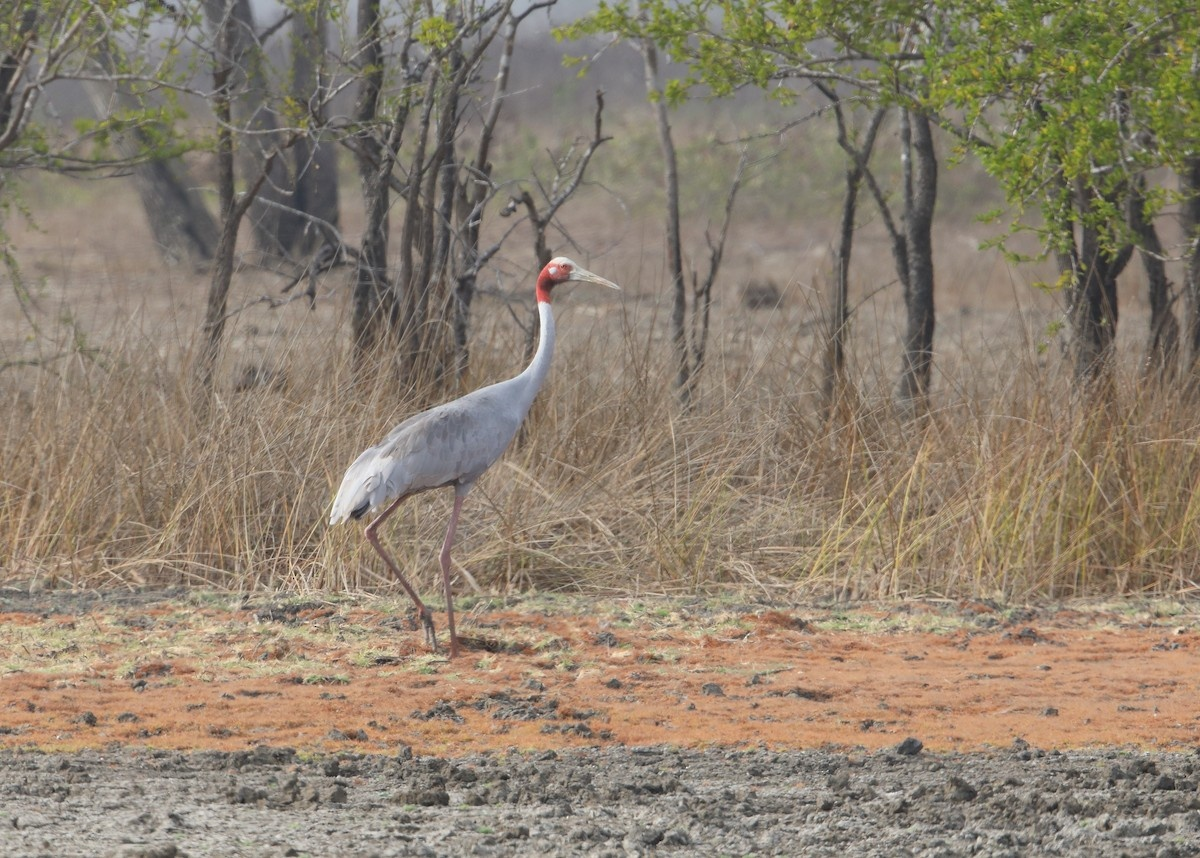crane: (346, 246, 628, 659)
